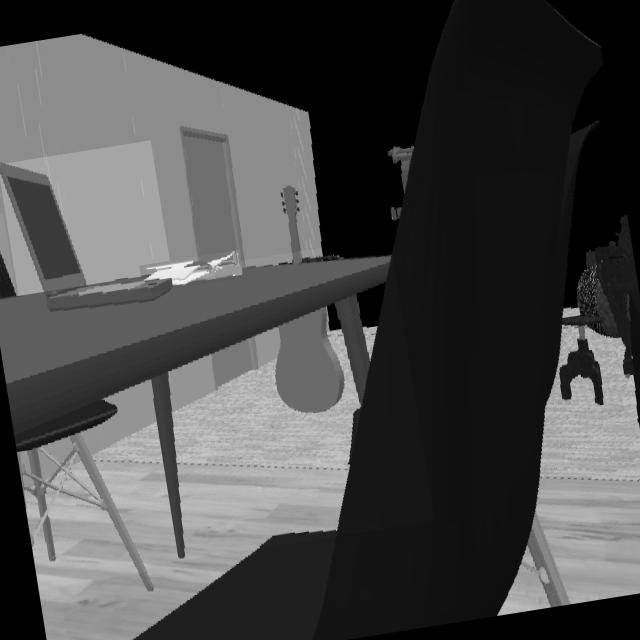book: (142, 252, 242, 288)
chair: (133, 0, 628, 640), (14, 401, 146, 574), (0, 251, 16, 301)
laptop: (0, 165, 174, 314)
sofa: (611, 285, 640, 420)
table: (0, 256, 394, 560)
